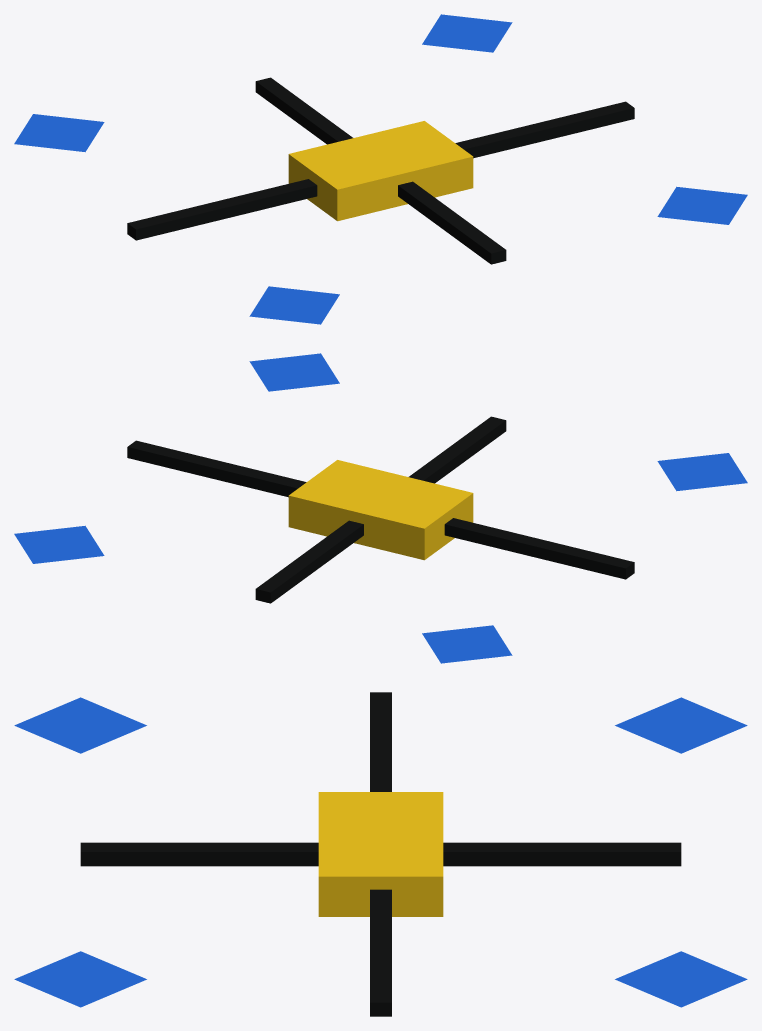
The model's file is drone_frame.obj.
3 renders of one model, top to bottom at view 1: azimuth 30°, elevation 25°; view 2: azimuth 150°, elevation 25°; view 3: azimuth 270°, elevation 25°, orthographic. The views are drawn at different scales.
Visible parts, largest first — view 1: body, rotors, arm_x, arm_z; view 2: body, rotors, arm_x, arm_z; view 3: rotors, body, arm_z, arm_x.
Part boxes in pixels (x1,y1,x2,y2): body: [288, 121, 473, 221]; rotors: [14, 14, 747, 324]; arm_x: [127, 101, 634, 240]; arm_z: [255, 77, 506, 264]; body: [288, 460, 473, 560]; rotors: [14, 353, 747, 663]; arm_x: [127, 440, 634, 579]; arm_z: [255, 416, 506, 603]; rotors: [14, 697, 747, 1007]; body: [318, 792, 443, 916]; arm_z: [80, 842, 681, 866]; arm_x: [370, 692, 391, 1016].
Size of the model in its own units: 3.3 by 0.2 by 3.3.
